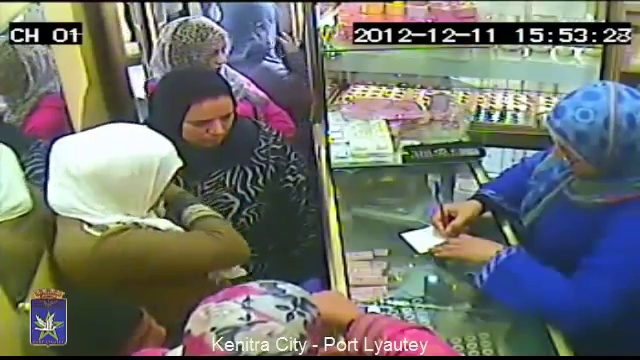face: (183, 100, 236, 145), (205, 31, 230, 72)
